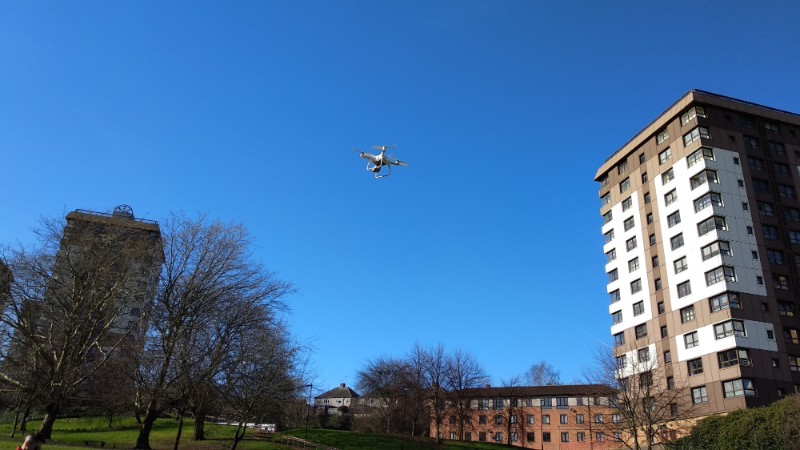drone: (352, 142, 410, 181)
